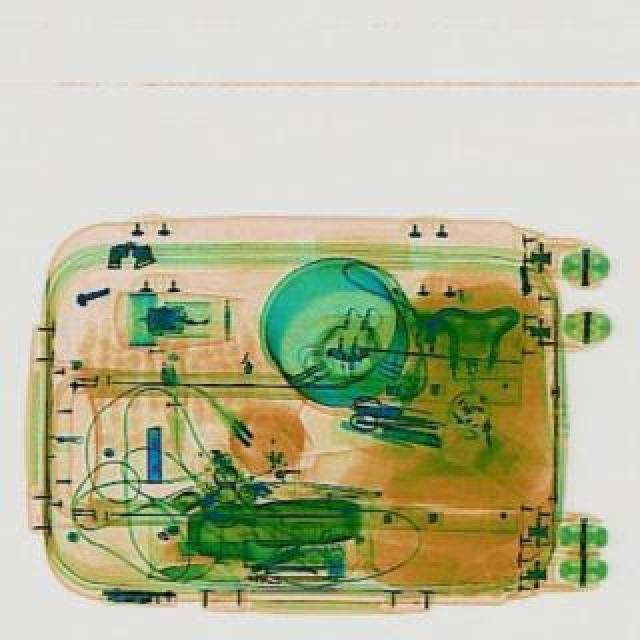pliers: (348, 394, 440, 442)
